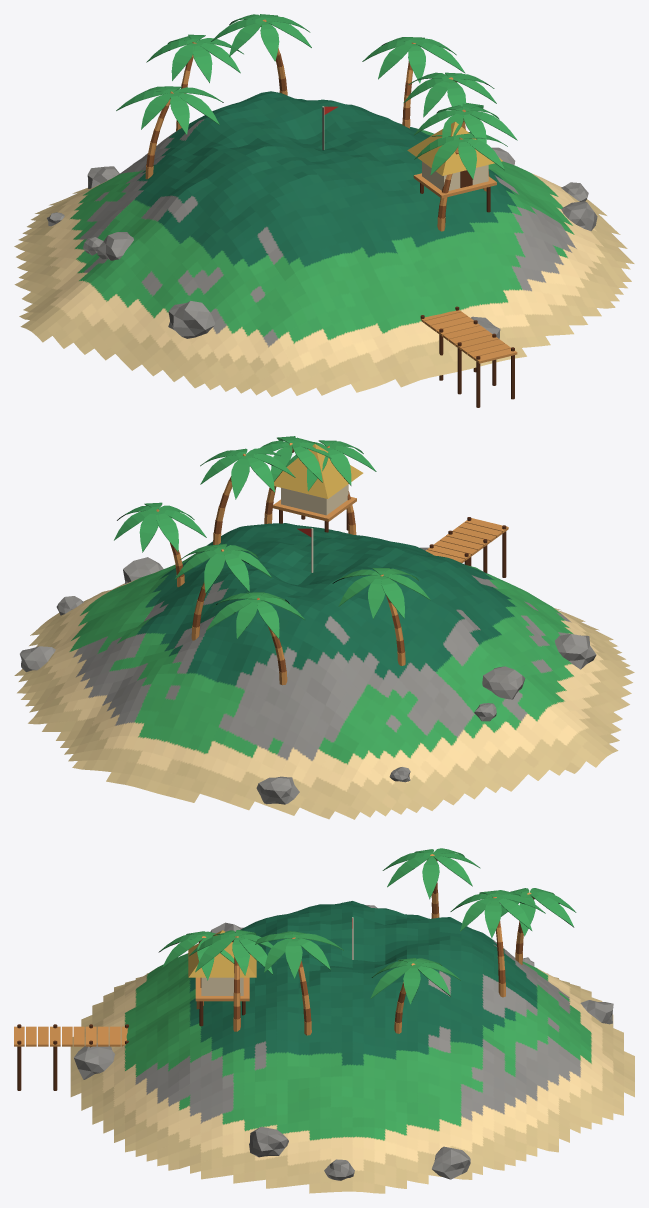
Rendered from turtle_cay.web-pbr.glb.
3 renders of one model, top to bottom at view 1: azimuth 30°, elevation 25°; view 2: azimuth 150°, elevation 25°; view 3: azimuth 270°, elevation 25°, orthographic. The views are drawn at different scales.
Parts seen in each view (by area): view 1: turtle_cay_mesh; view 2: turtle_cay_mesh; view 3: turtle_cay_mesh.
Part boxes in pixels (<box>): turtle_cay_mesh: <box>14,14,634,407</box>; turtle_cay_mesh: <box>14,436,634,819</box>; turtle_cay_mesh: <box>14,848,634,1193</box>.
Size of the model in its own units: 32.06 by 11.03 by 32.19.
1 material, 1 textured.
